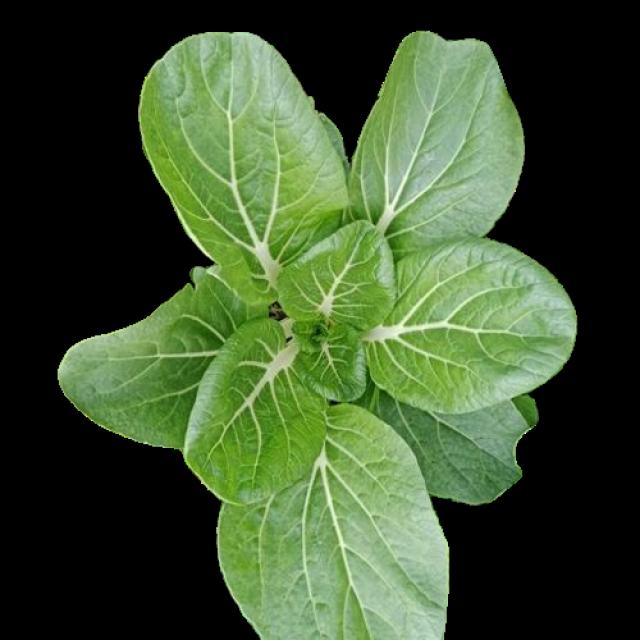healthy: (58, 27, 574, 637)
mature: (60, 29, 576, 640)
